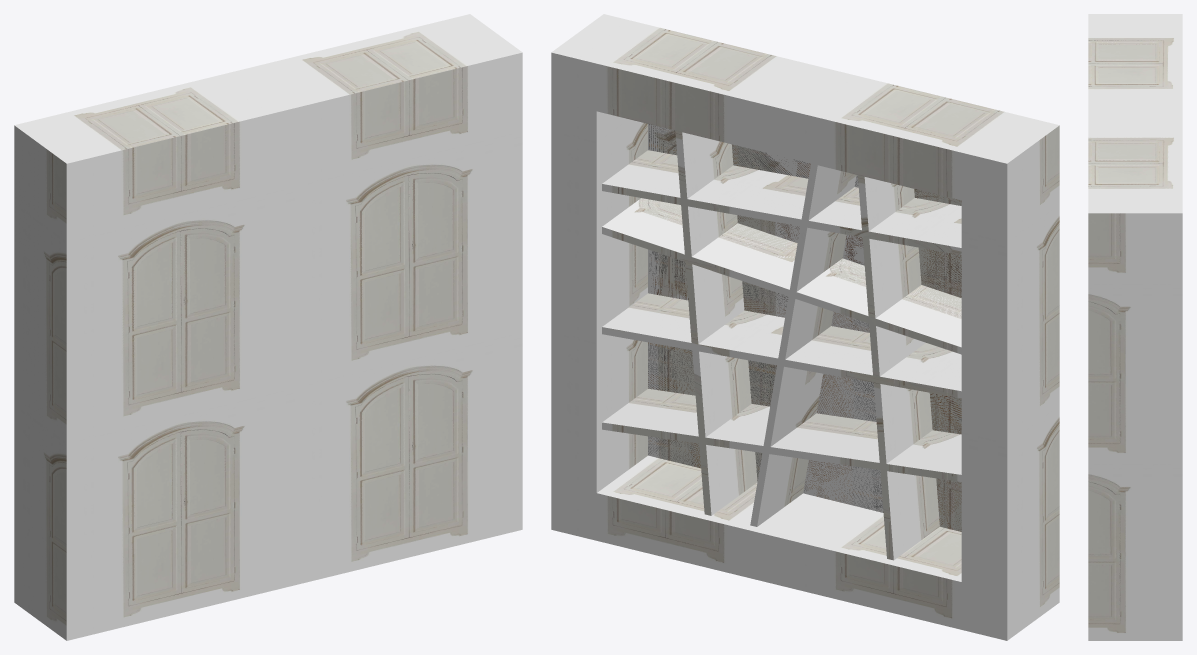
3 views of the same model, side by side, from view 1: azimuth 30°, elevation 25°; view 2: azimuth 150°, elevation 25°; view 3: azimuth 270°, elevation 25° (orthographic). The views are drawn at different scales.
Parts seen in each view (by area): view 1: mesh1_mesh1-geometry; view 2: mesh1_mesh1-geometry; view 3: mesh1_mesh1-geometry.
Boxes of the visible parts, x1,y1,x2,y2 form: mesh1_mesh1-geometry: (14, 14, 522, 640); mesh1_mesh1-geometry: (551, 14, 1059, 640); mesh1_mesh1-geometry: (1088, 14, 1182, 640).
Bounding box in the file's own units: 0.7001 × 0.7001 × 0.14.
